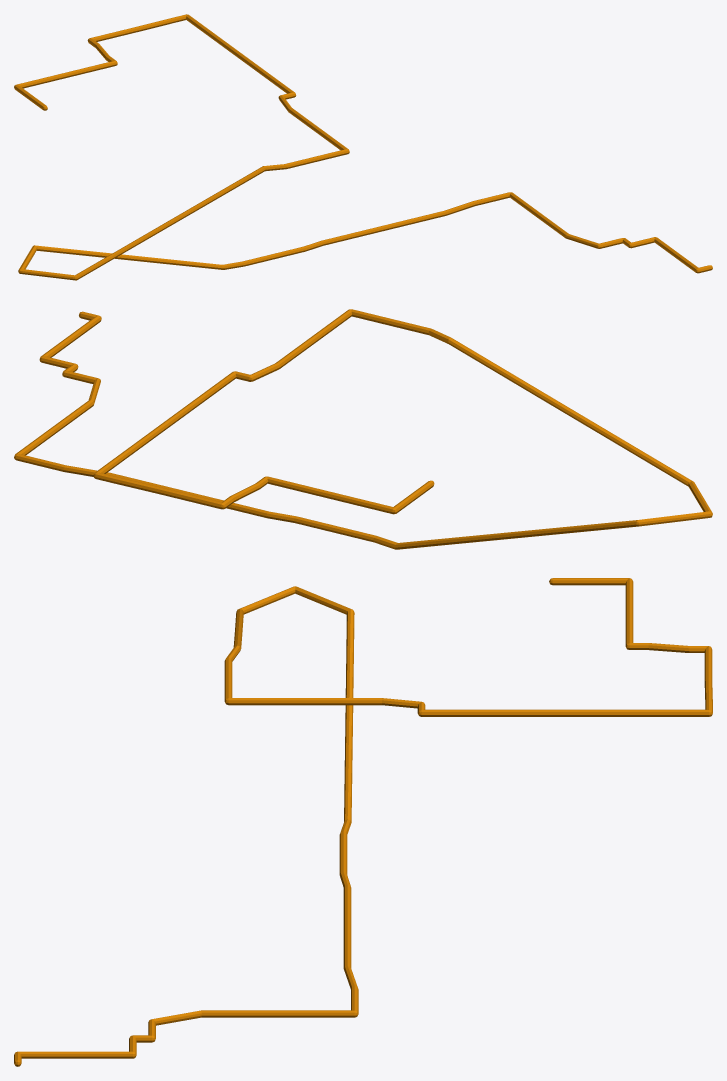
The picture shows the model from 3 angles, top to bottom: view 1: azimuth 30°, elevation 25°; view 2: azimuth 150°, elevation 25°; view 3: azimuth 270°, elevation 25°; orthographic projection. The views are drawn at different scales.
Bounding box in the file's own units: 2406 × 520 × 1823.
